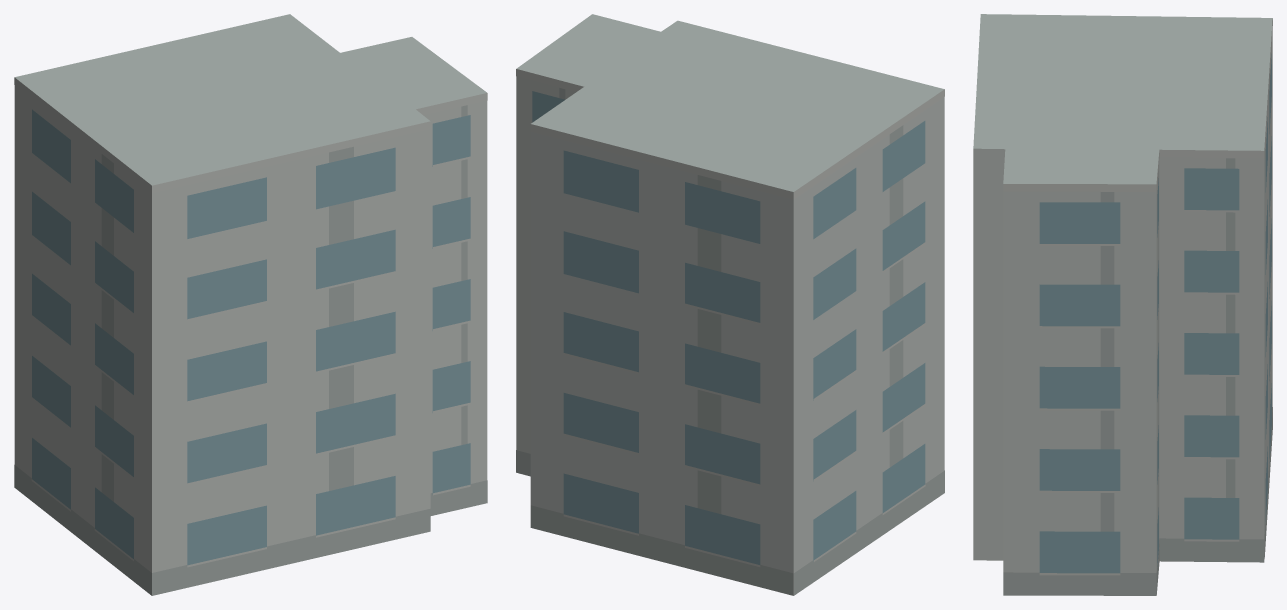
File: survey-upis-32639612.glb
The picture shows the model from 3 angles, left to right: view 1: azimuth 30°, elevation 25°; view 2: azimuth 150°, elevation 25°; view 3: azimuth 270°, elevation 25°; orthographic projection.
Parts seen in each view (by area): view 1: survey-upis-32639612.tmp; view 2: survey-upis-32639612.tmp; view 3: survey-upis-32639612.tmp.
Part boxes in pixels (x1=…): survey-upis-32639612.tmp: x1=14, y1=14, x2=487, y2=595; survey-upis-32639612.tmp: x1=516, y1=14, x2=944, y2=595; survey-upis-32639612.tmp: x1=973, y1=14, x2=1272, y2=595.
Size of the model in its own units: 11.54 by 13 by 8.58.
